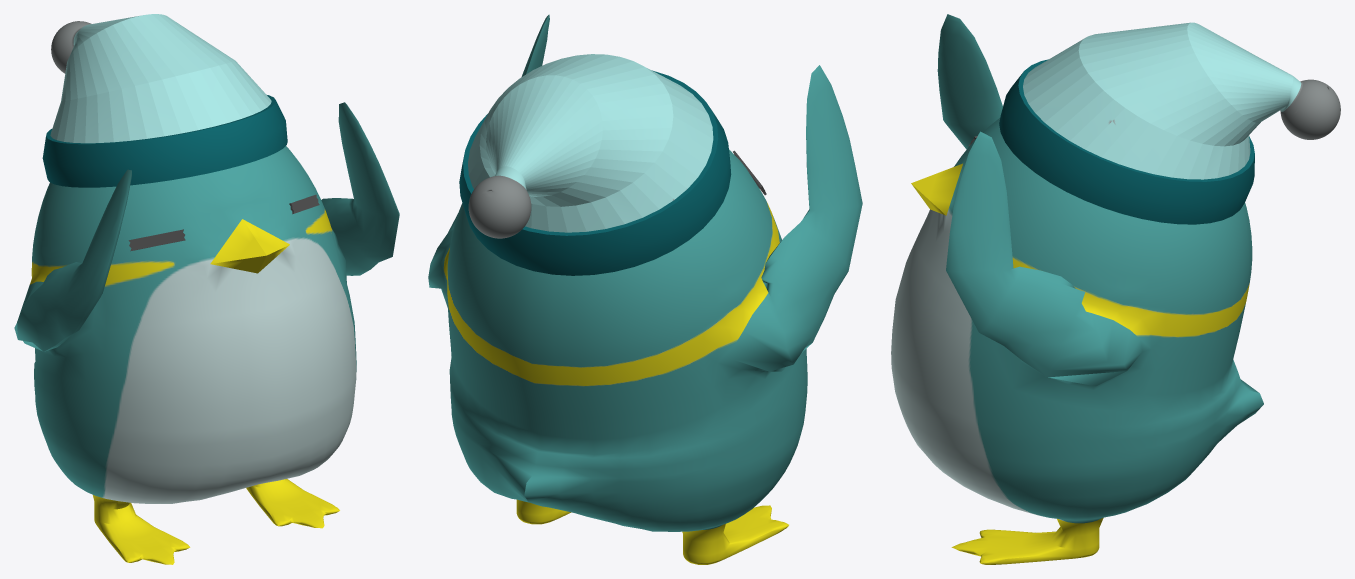
The model's file is penguin_blue_throw_08f.fbx.
3 views of the same model, side by side, from view 1: azimuth 30°, elevation 25°; view 2: azimuth 150°, elevation 25°; view 3: azimuth 270°, elevation 25° (orthographic). The views are drawn at different scales.
Visible parts, largest first — view 1: ppp8, bousi, ai; view 2: ppp8, bousi; view 3: ppp8, bousi.
Part boxes in pixels (<box>): ppp8: <box>14,102,399,564</box>; bousi: <box>42,14,287,187</box>; ai: <box>128,194,319,251</box>; ppp8: <box>428,14,862,564</box>; bousi: <box>459,54,731,275</box>; ppp8: <box>891,14,1263,564</box>; bousi: <box>999,22,1340,224</box>.
Bounding box in the file's own units: 14.45 × 19.33 × 16.33.
Materials: 1 (1 with a texture image).
